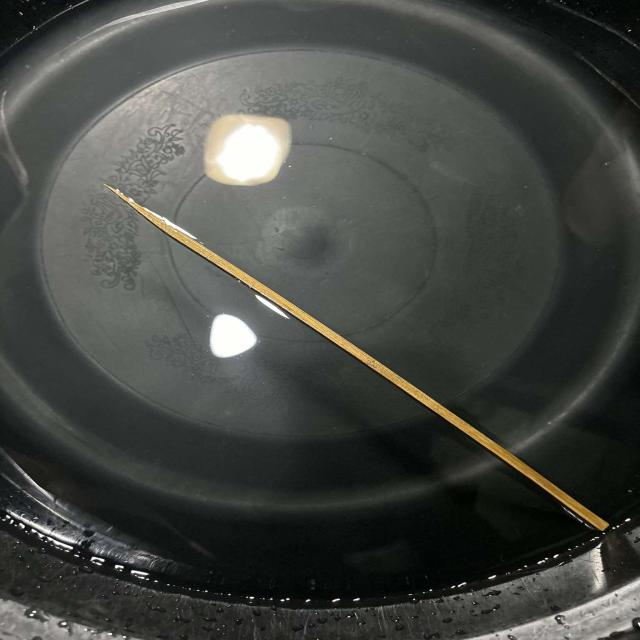Wood Stick: (105, 185, 609, 531)
